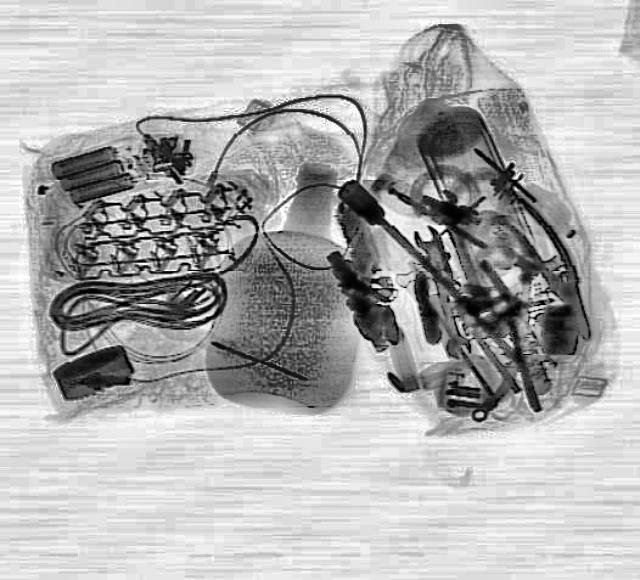Pliers: (492, 191, 616, 345)
Wrench: (408, 222, 477, 359)
